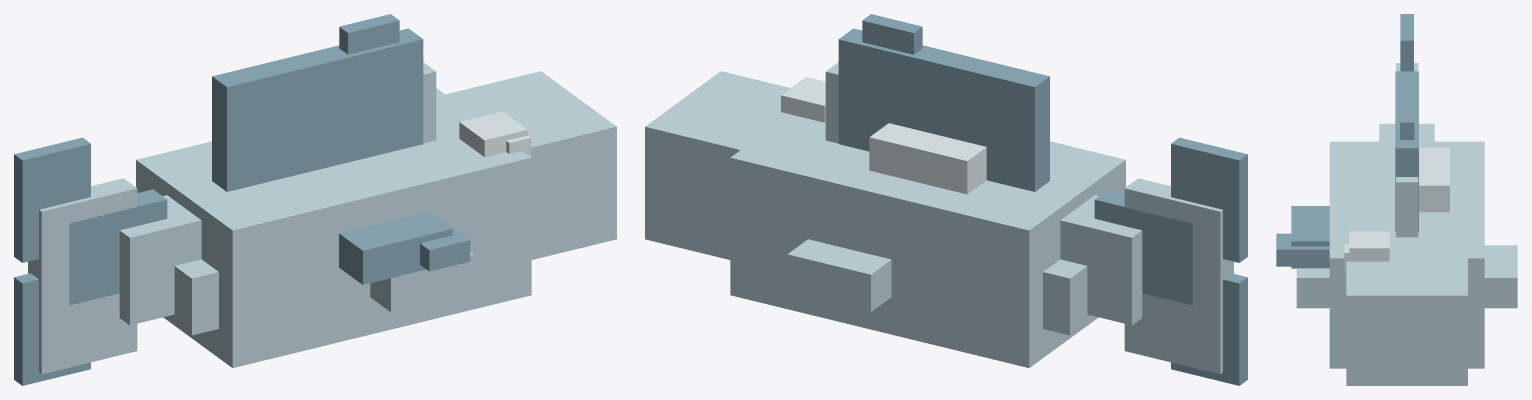
Rendered from fish_glass_tide.glb.
3 views of the same model, side by side, from view 1: azimuth 30°, elevation 25°; view 2: azimuth 150°, elevation 25°; view 3: azimuth 270°, elevation 25° (orthographic). The views are drawn at different scales.
Visible parts, largest first — view 1: FishArt_body, FishArt_dorsal, FishArt_tail, FishArt_pectoral, FishArt_eye; view 2: FishArt_body, FishArt_dorsal, FishArt_tail, FishArt_specialty, FishArt_eye; view 3: FishArt_body, FishArt_pectoral, FishArt_dorsal, FishArt_specialty, FishArt_eye, FishArt_tail.
Boxes of the visible parts, x1=… form: FishArt_body: x1=28, y1=62, x2=616, y2=374; FishArt_dorsal: x1=212, y1=14, x2=423, y2=191; FishArt_tail: x1=14, y1=137, x2=167, y2=385; FishArt_pectoral: x1=339, y1=211, x2=470, y2=284; FishArt_eye: x1=459, y1=111, x2=531, y2=156; FishArt_body: x1=645, y1=62, x2=1233, y2=374; FishArt_dorsal: x1=838, y1=14, x2=1049, y2=191; FishArt_tail: x1=1094, y1=137, x2=1247, y2=385; FishArt_specialty: x1=869, y1=123, x2=986, y2=194; FishArt_eye: x1=781, y1=77, x2=825, y2=122; FishArt_body: x1=1296, y1=63, x2=1517, y2=385; FishArt_pectoral: x1=1276, y1=206, x2=1329, y2=268; FishArt_dorsal: x1=1395, y1=71, x2=1418, y2=231; FishArt_specialty: x1=1419, y1=147, x2=1449, y2=212; FishArt_eye: x1=1344, y1=231, x2=1389, y2=270; FishArt_tail: x1=1400, y1=14, x2=1413, y2=71.
Bounding box in the file's own units: 0.3091 × 0.1442 × 0.1439.
